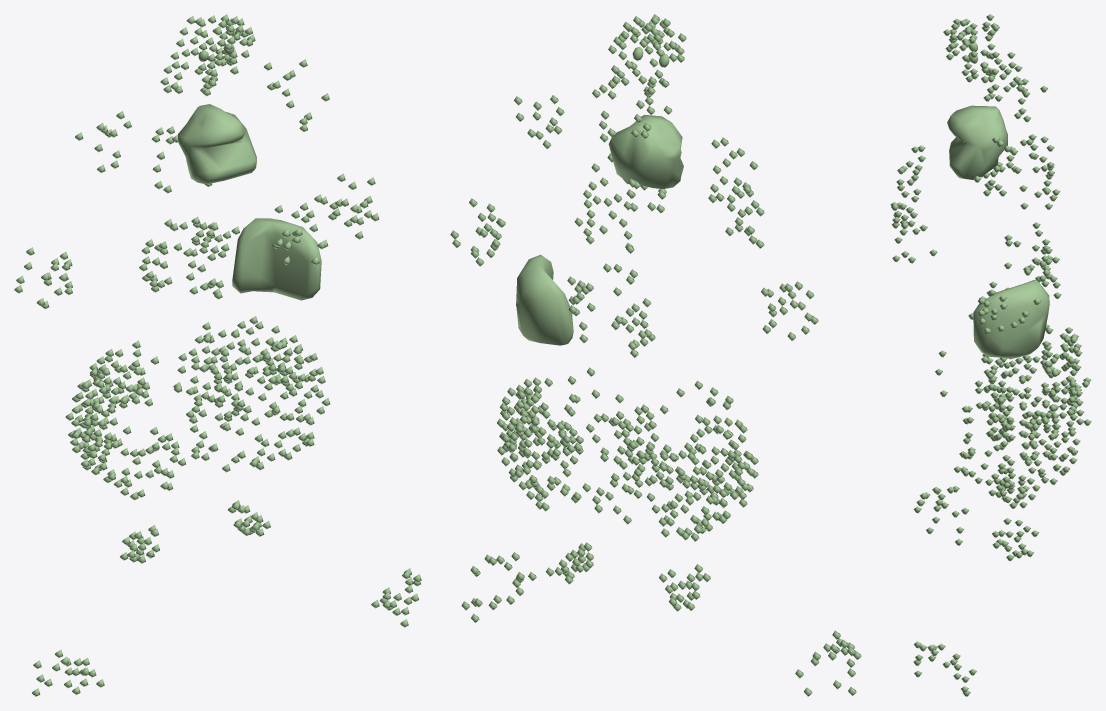
The model's file is pediatric_neonate_female.lymphatic.LOD2.glb.
3 views of the same model, side by side, from view 1: azimuth 30°, elevation 25°; view 2: azimuth 150°, elevation 25°; view 3: azimuth 270°, elevation 25° (orthographic). The views are drawn at different scales.
Parts seen in each view (by area): view 1: PEDIATRIC.NEONATE.FEMALE.LYMPHATIC.LYMPHATIC_NODES_TRUNK, PEDIATRIC.NEONATE.FEMALE.LYMPHATIC.SPLEEN, PEDIATRIC.NEONATE.FEMALE.LYMPHATIC.THYMUS, PEDIATRIC.NEONATE.FEMALE.LYMPHATIC.LYMPHATIC_NODES_ET, PEDIATRIC.NEONATE.FEMALE.LYMPHATIC.LYMPHATIC_NODES_THORACIC, PEDIATRIC.NEONATE.FEMALE.LYMPHATIC.LYMPHATIC_NODES_LEGS, PEDIATRIC.NEONATE.FEMALE.LYMPHATIC.LYMPHATIC_NODES_ARMS, PEDIATRIC.NEONATE.FEMALE.LYMPHATIC.LYMPHATIC_NODES_HEAD; view 2: PEDIATRIC.NEONATE.FEMALE.LYMPHATIC.LYMPHATIC_NODES_TRUNK, PEDIATRIC.NEONATE.FEMALE.LYMPHATIC.THYMUS, PEDIATRIC.NEONATE.FEMALE.LYMPHATIC.SPLEEN, PEDIATRIC.NEONATE.FEMALE.LYMPHATIC.LYMPHATIC_NODES_THORACIC, PEDIATRIC.NEONATE.FEMALE.LYMPHATIC.LYMPHATIC_NODES_ET, PEDIATRIC.NEONATE.FEMALE.LYMPHATIC.LYMPHATIC_NODES_ARMS, PEDIATRIC.NEONATE.FEMALE.LYMPHATIC.LYMPHATIC_NODES_LEGS, PEDIATRIC.NEONATE.FEMALE.LYMPHATIC.LYMPHATIC_NODES_HEAD; view 3: PEDIATRIC.NEONATE.FEMALE.LYMPHATIC.LYMPHATIC_NODES_TRUNK, PEDIATRIC.NEONATE.FEMALE.LYMPHATIC.SPLEEN, PEDIATRIC.NEONATE.FEMALE.LYMPHATIC.THYMUS, PEDIATRIC.NEONATE.FEMALE.LYMPHATIC.LYMPHATIC_NODES_THORACIC, PEDIATRIC.NEONATE.FEMALE.LYMPHATIC.LYMPHATIC_NODES_ET, PEDIATRIC.NEONATE.FEMALE.LYMPHATIC.LYMPHATIC_NODES_LEGS, PEDIATRIC.NEONATE.FEMALE.LYMPHATIC.LYMPHATIC_NODES_ARMS, PEDIATRIC.NEONATE.FEMALE.LYMPHATIC.LYMPHATIC_NODES_HEAD.
Part boxes in pixels (left/top/right/bottom): PEDIATRIC.NEONATE.FEMALE.LYMPHATIC.LYMPHATIC_NODES_TRUNK: left=65, top=59, right=330, bottom=563; PEDIATRIC.NEONATE.FEMALE.LYMPHATIC.SPLEEN: left=232, top=218, right=321, bottom=300; PEDIATRIC.NEONATE.FEMALE.LYMPHATIC.THYMUS: left=178, top=104, right=256, bottom=184; PEDIATRIC.NEONATE.FEMALE.LYMPHATIC.LYMPHATIC_NODES_ET: left=176, top=14, right=255, bottom=87; PEDIATRIC.NEONATE.FEMALE.LYMPHATIC.LYMPHATIC_NODES_THORACIC: left=139, top=126, right=239, bottom=299; PEDIATRIC.NEONATE.FEMALE.LYMPHATIC.LYMPHATIC_NODES_LEGS: left=32, top=568, right=421, bottom=696; PEDIATRIC.NEONATE.FEMALE.LYMPHATIC.LYMPHATIC_NODES_ARMS: left=14, top=173, right=379, bottom=309; PEDIATRIC.NEONATE.FEMALE.LYMPHATIC.LYMPHATIC_NODES_HEAD: left=160, top=44, right=231, bottom=96; PEDIATRIC.NEONATE.FEMALE.LYMPHATIC.LYMPHATIC_NODES_TRUNK: left=497, top=95, right=764, bottom=611; PEDIATRIC.NEONATE.FEMALE.LYMPHATIC.THYMUS: left=608, top=114, right=683, bottom=188; PEDIATRIC.NEONATE.FEMALE.LYMPHATIC.SPLEEN: left=516, top=254, right=573, bottom=345; PEDIATRIC.NEONATE.FEMALE.LYMPHATIC.LYMPHATIC_NODES_THORACIC: left=567, top=177, right=655, bottom=357; PEDIATRIC.NEONATE.FEMALE.LYMPHATIC.LYMPHATIC_NODES_ET: left=608, top=14, right=686, bottom=95; PEDIATRIC.NEONATE.FEMALE.LYMPHATIC.LYMPHATIC_NODES_ARMS: left=450, top=198, right=818, bottom=340; PEDIATRIC.NEONATE.FEMALE.LYMPHATIC.LYMPHATIC_NODES_LEGS: left=461, top=552, right=861, bottom=696; PEDIATRIC.NEONATE.FEMALE.LYMPHATIC.LYMPHATIC_NODES_HEAD: left=592, top=75, right=672, bottom=142; PEDIATRIC.NEONATE.FEMALE.LYMPHATIC.LYMPHATIC_NODES_TRUNK: left=890, top=58, right=1091, bottom=561; PEDIATRIC.NEONATE.FEMALE.LYMPHATIC.SPLEEN: left=973, top=280, right=1049, bottom=358; PEDIATRIC.NEONATE.FEMALE.LYMPHATIC.THYMUS: left=947, top=105, right=1007, bottom=179; PEDIATRIC.NEONATE.FEMALE.LYMPHATIC.LYMPHATIC_NODES_THORACIC: left=1004, top=134, right=1061, bottom=298; PEDIATRIC.NEONATE.FEMALE.LYMPHATIC.LYMPHATIC_NODES_ET: left=943, top=14, right=999, bottom=83; PEDIATRIC.NEONATE.FEMALE.LYMPHATIC.LYMPHATIC_NODES_LEGS: left=913, top=485, right=976, bottom=696; PEDIATRIC.NEONATE.FEMALE.LYMPHATIC.LYMPHATIC_NODES_ARMS: left=977, top=153, right=1040, bottom=334; PEDIATRIC.NEONATE.FEMALE.LYMPHATIC.LYMPHATIC_NODES_HEAD: left=981, top=52, right=1030, bottom=122.
Bounding box in the file's own units: 0.1868 × 0.2975 × 0.0909.
